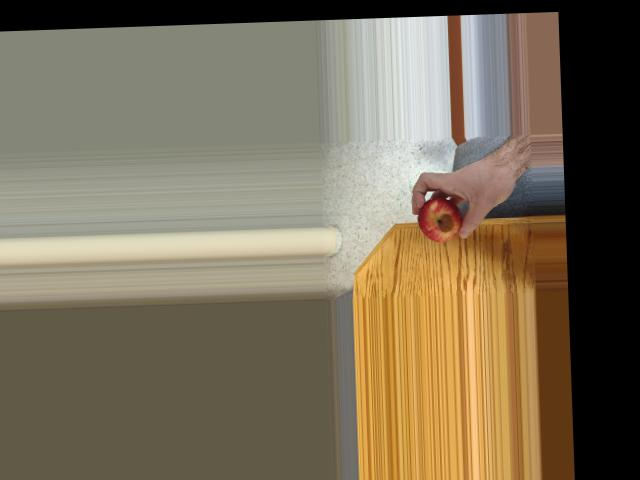apple: (416, 197, 471, 243)
